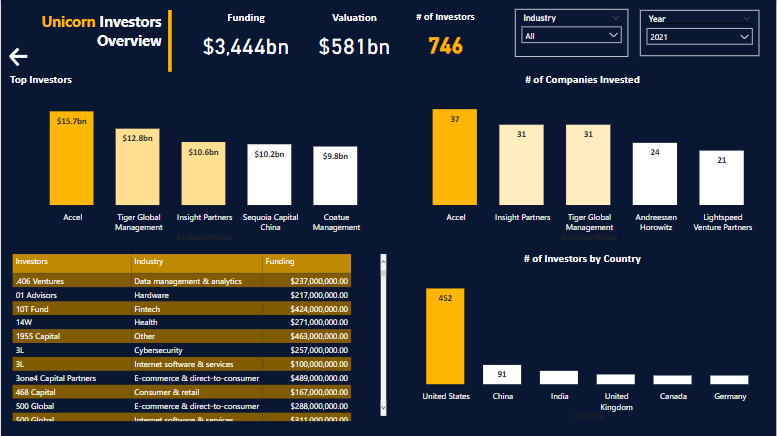

Layout of this report page (visuals, bound fields, positions):
{"tool":"powerbi","page":{"name":"Investors","canvas":[1280,720],"ordinal":1},"visuals":[{"type":"actionButton","box":[9.9,74.3,51.2,39.6],"z":0},{"type":"textbox","box":[9.6,12.4,260.1,81.2],"z":1000},{"type":"shape","box":[247.7,16.5,62.8,102.4],"z":2000},{"type":"card","title":"Funding","fields":{"Values":["Sum(Table1. Valuation $ )"]},"box":[310.5,16.5,188.3,89.2],"z":3000},{"type":"card","title":"Valuation","fields":{"Values":["Sum(Table1. Funding $ )"]},"box":[498.8,16.5,170.1,89.2],"z":4000},{"type":"card","title":"# of Investors","fields":{"Values":["Count(Table1.InvestorName)"]},"box":[668.9,16.5,130.5,89.2],"z":5000},{"type":"slicer","fields":{"Values":["Table1.Date Joined.Variation.Date Hierarchy.Year"]},"box":[1055.4,16.5,196.5,76],"z":6000},{"type":"clusteredColumnChart","title":"Top Investors","fields":{"Category":["Table1.InvestorName"],"Y":["Sum(Table1. Funding $ )"]},"box":[9.9,118.9,630.9,285.7],"z":7000},{"type":"clusteredColumnChart","title":"# of Companies Invested","fields":{"Category":["Table1.InvestorName"],"Y":["Count(Table1.Company)"]},"box":[640.8,118.9,639.2,285.7],"z":8000},{"type":"tableEx","fields":{"Values":["Table1.InvestorName","Table1.Industry","Sum(Table1. Funding $ )"]},"box":[13.2,414.6,627.6,285.7],"z":9000},{"type":"clusteredColumnChart","title":"# of Investors by Country","fields":{"Category":["Table1.Country"],"Y":["Count(Table1.InvestorName)"]},"box":[641,415,639,286],"z":10000},{"type":"slicer","fields":{"Values":["Table1.Industry"]},"box":[848.9,14.9,186.6,79.3],"z":11000}]}

Visuals, with their boxes in screenshot pixels (x1, y1, x2, y2), scaled from the page's 1280x720 canvas onto the 777x436 screenshot:
actionButton: left=6, top=45, right=37, bottom=69
textbox: left=6, top=8, right=164, bottom=57
shape: left=150, top=10, right=188, bottom=72
"Funding" card: left=188, top=10, right=303, bottom=64
"Valuation" card: left=303, top=10, right=406, bottom=64
"# of Investors" card: left=406, top=10, right=485, bottom=64
slicer - Table1.Date Joined.Variation.Date Hierarchy.Year: left=641, top=10, right=760, bottom=56
"Top Investors" clusteredColumnChart: left=6, top=72, right=389, bottom=245
"# of Companies Invested" clusteredColumnChart: left=389, top=72, right=776, bottom=245
tableEx - Table1.InvestorName x Table1.Industry: left=8, top=251, right=389, bottom=424
"# of Investors by Country" clusteredColumnChart: left=389, top=251, right=776, bottom=424
slicer - Table1.Industry: left=515, top=9, right=629, bottom=57
